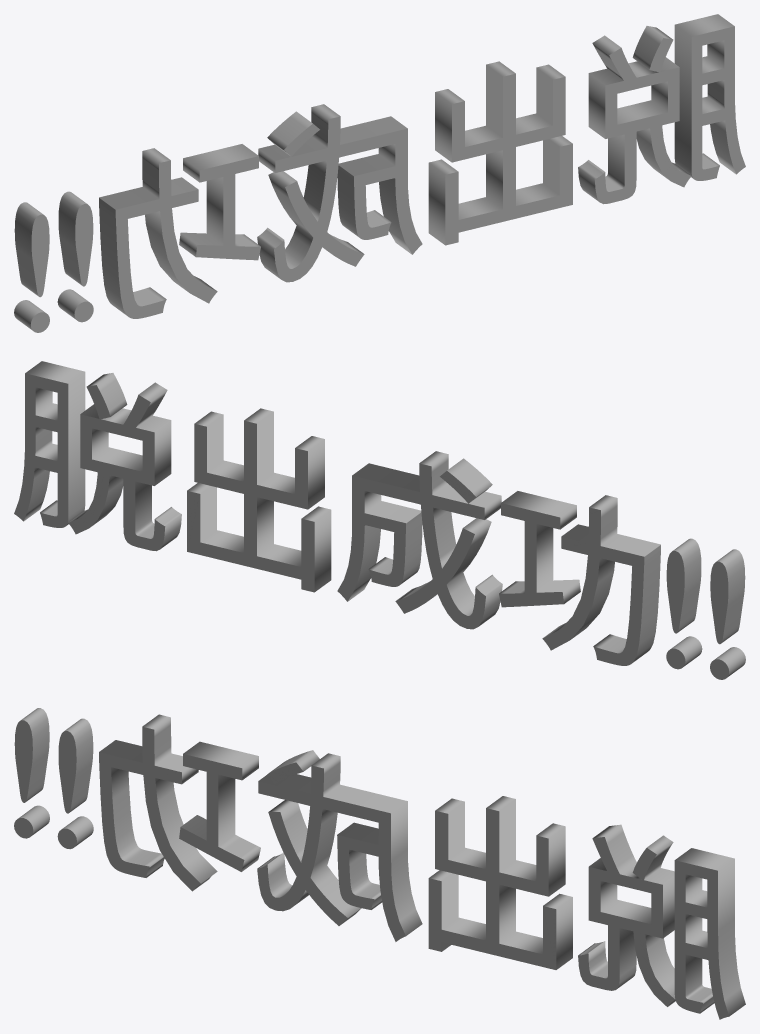
The model's file is SucceededEscape.obj.
3 renders of one model, top to bottom at view 1: azimuth 30°, elevation 25°; view 2: azimuth 150°, elevation 25°; view 3: azimuth 330°, elevation 25°, orthographic.
Parts seen in each view (by area): view 1: テキスト; view 2: テキスト; view 3: テキスト.
Part boxes in pixels (<box>): テキスト: <box>14,14,745,332</box>; テキスト: <box>14,361,745,679</box>; テキスト: <box>14,708,745,1019</box>.
Bounding box in the file's own units: 4.44 × 0.927 × 0.18.
1 material, 1 textured.
